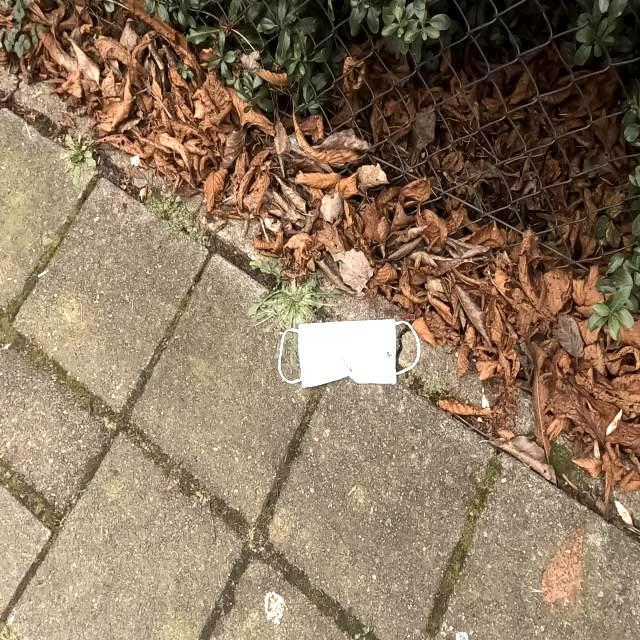Mask: (278, 318, 426, 394)
